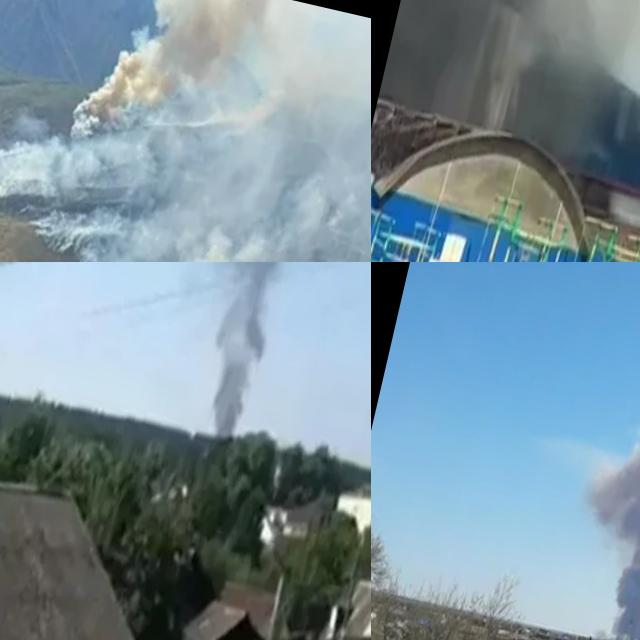smoke: (0, 0, 371, 262), (371, 0, 640, 262), (163, 262, 308, 443), (547, 363, 640, 640)
